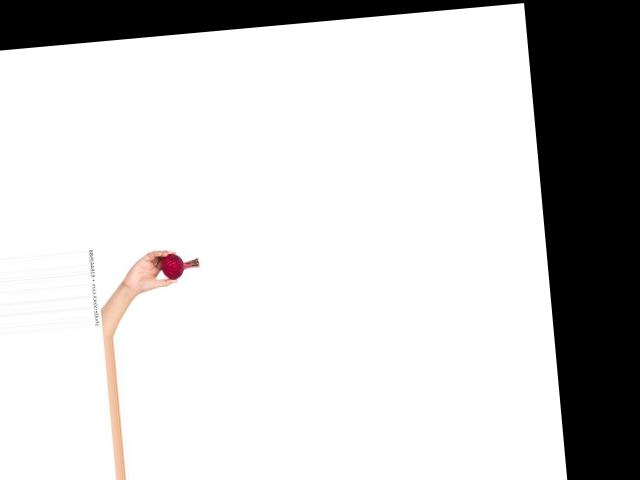beet: (161, 250, 200, 279)
